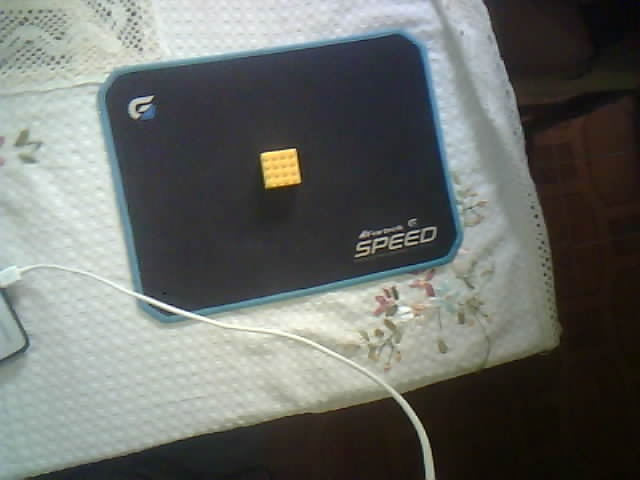lego: (259, 148, 303, 190)
